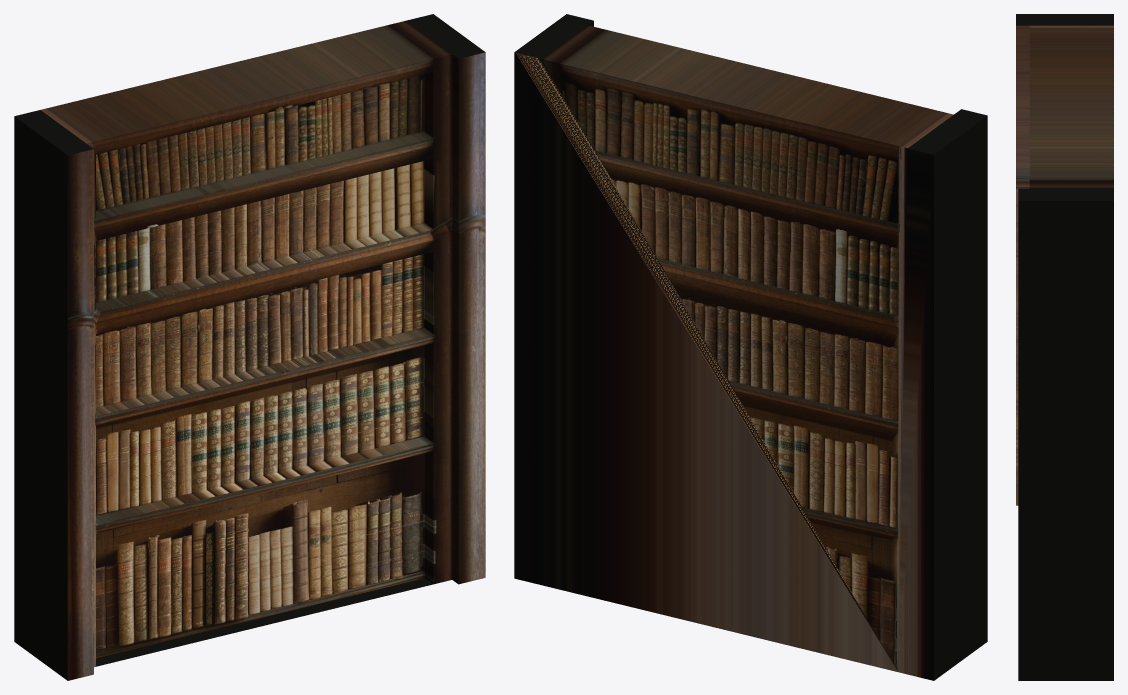
The model's file is bookcase.fbx.
3 views of the same model, side by side, from view 1: azimuth 30°, elevation 25°; view 2: azimuth 150°, elevation 25°; view 3: azimuth 270°, elevation 25° (orthographic). The views are drawn at different scales.
Parts seen in each view (by area): view 1: books-g6c6604b23_1920; view 2: books-g6c6604b23_1920; view 3: books-g6c6604b23_1920.
Boxes of the visible parts, left/top/right/bottom form: books-g6c6604b23_1920: left=14, top=14, right=485, bottom=680; books-g6c6604b23_1920: left=514, top=14, right=987, bottom=680; books-g6c6604b23_1920: left=1016, top=14, right=1113, bottom=680.
Size of the model in its own units: 62.66 by 75.06 by 13.87.
